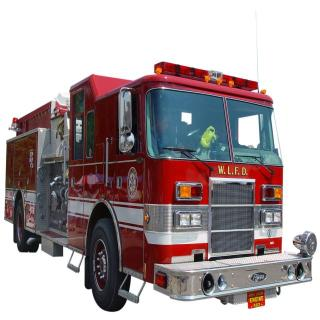Fire_truck: (3, 60, 316, 312)
